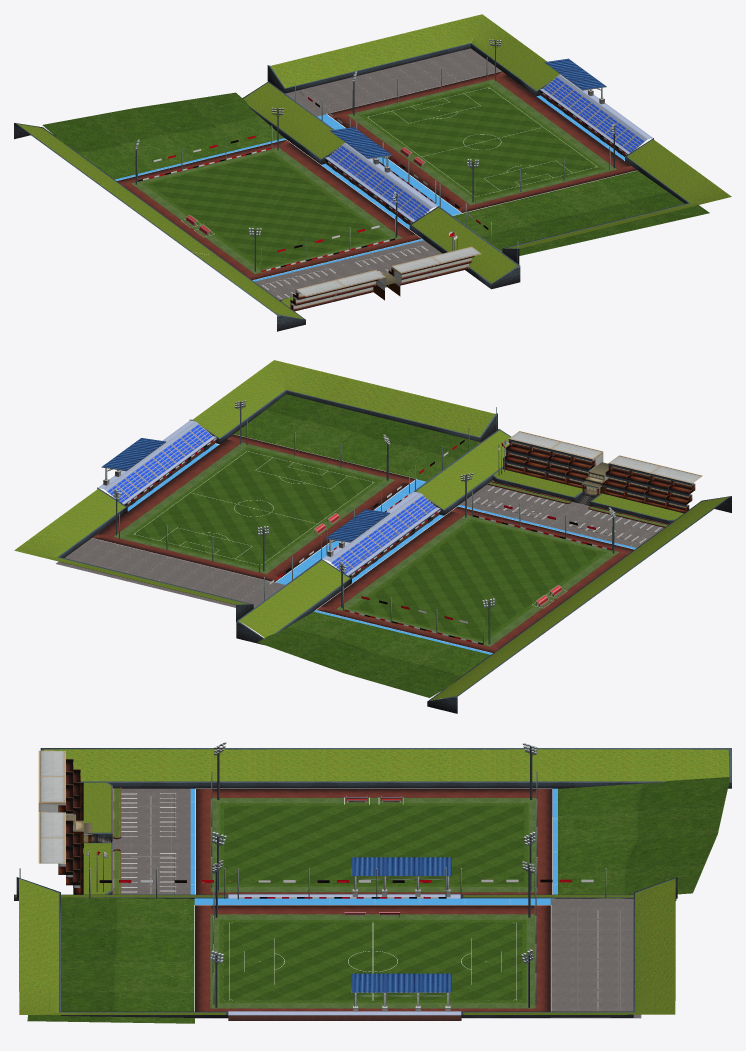
The model's file is st_031_ground_object.fbx.
3 renders of one model, top to bottom at view 1: azimuth 30°, elevation 25°; view 2: azimuth 150°, elevation 25°; view 3: azimuth 270°, elevation 25°, orthographic. The views are drawn at different scales.
Visible parts, largest first — view 1: st_031_ground_object1; view 2: st_031_ground_object1; view 3: st_031_ground_object1.
Boxes of the visible parts, x1,y1,x2,y2 form: st_031_ground_object1: [14, 14, 731, 331]; st_031_ground_object1: [14, 360, 731, 713]; st_031_ground_object1: [14, 742, 731, 1023].
Size of the model in its own units: 250 by 34.51 by 263.
